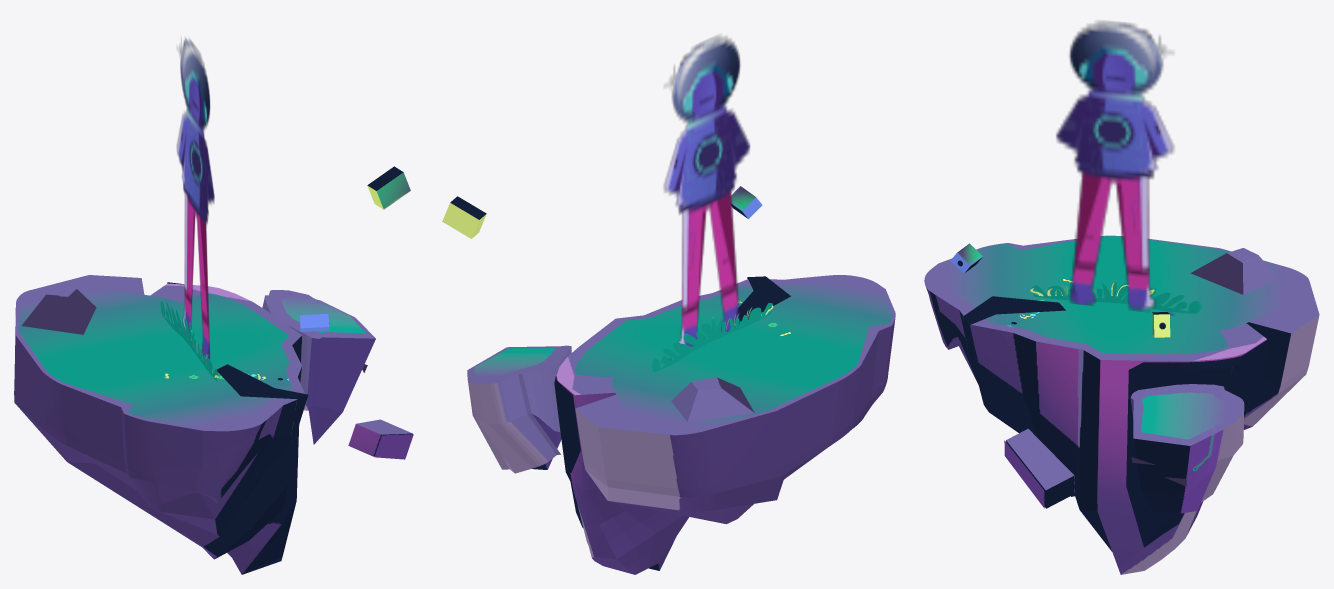
Rendered from GithubMainIsland3-2.glb.
3 renders of one model, left to right at view 1: azimuth 30°, elevation 25°; view 2: azimuth 150°, elevation 25°; view 3: azimuth 270°, elevation 25°, orthographic. The views are drawn at different scales.
Visible parts, largest first — view 1: Main.001; view 2: Main.001; view 3: Main.001.
Boxes of the visible parts, left/top/right/bottom form: Main.001: left=14, top=38, right=413, bottom=574; Main.001: left=442, top=35, right=895, bottom=574; Main.001: left=924, top=20, right=1319, bottom=574.
Size of the model in its own units: 6.52 by 8.84 by 6.15.
22 materials, 22 textured.
